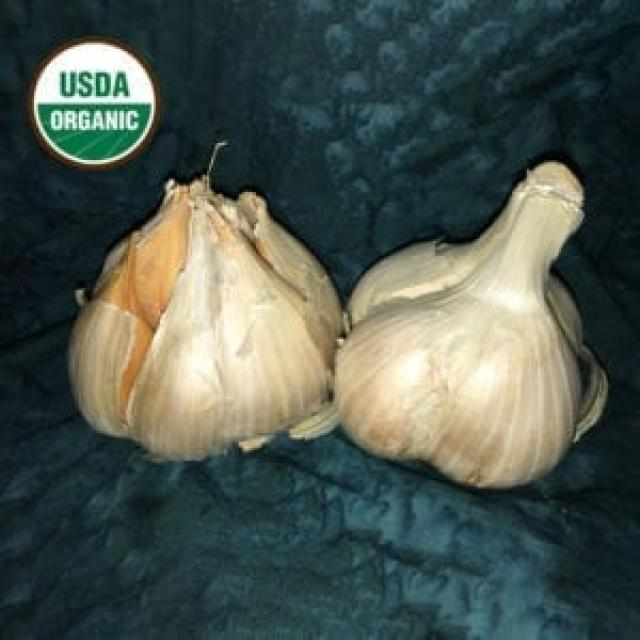garlic: (328, 202, 620, 496), (71, 205, 351, 482)
